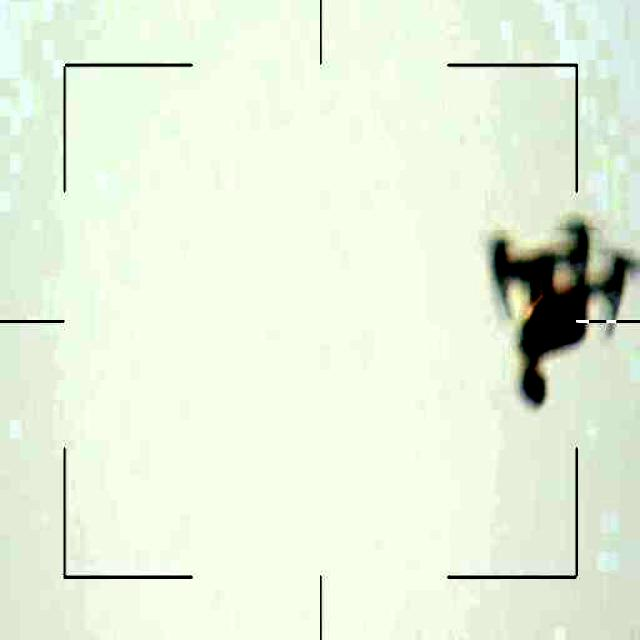bird: (469, 215, 640, 404)
